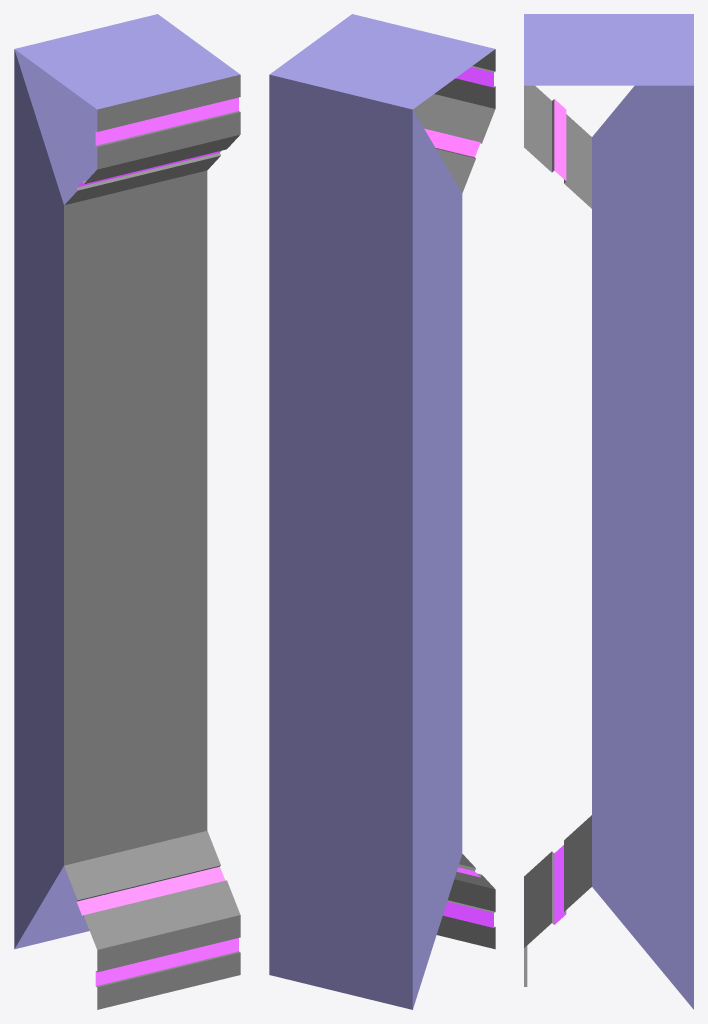
The model's file is WallSideHalf.FBX.
3 renders of one model, left to right at view 1: azimuth 30°, elevation 25°; view 2: azimuth 150°, elevation 25°; view 3: azimuth 270°, elevation 25°, orthographic. The views are drawn at different scales.
Visible parts, largest first — view 1: WallSideHalf; view 2: WallSideHalf; view 3: WallSideHalf.
Boxes of the visible parts, bbox=[...] form: WallSideHalf: bbox=[14, 14, 240, 1009]; WallSideHalf: bbox=[269, 14, 495, 1009]; WallSideHalf: bbox=[524, 14, 693, 1009].
Bounding box in the file's own units: 50 × 50 × 300.
